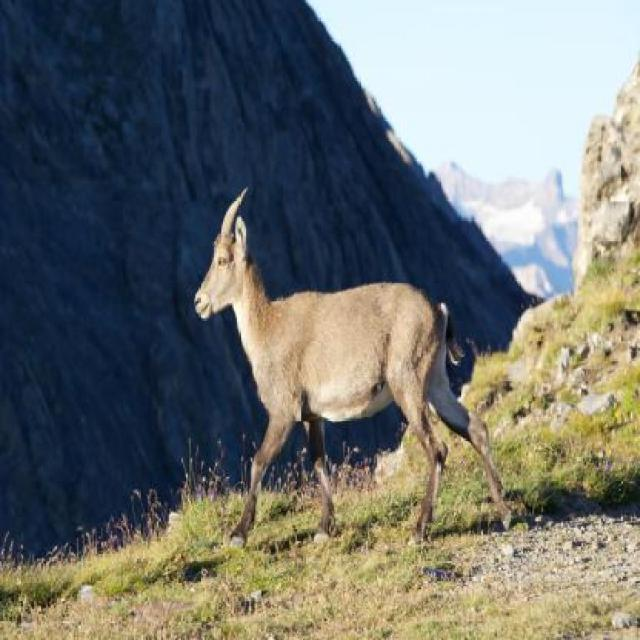Deer: (193, 184, 510, 538)
